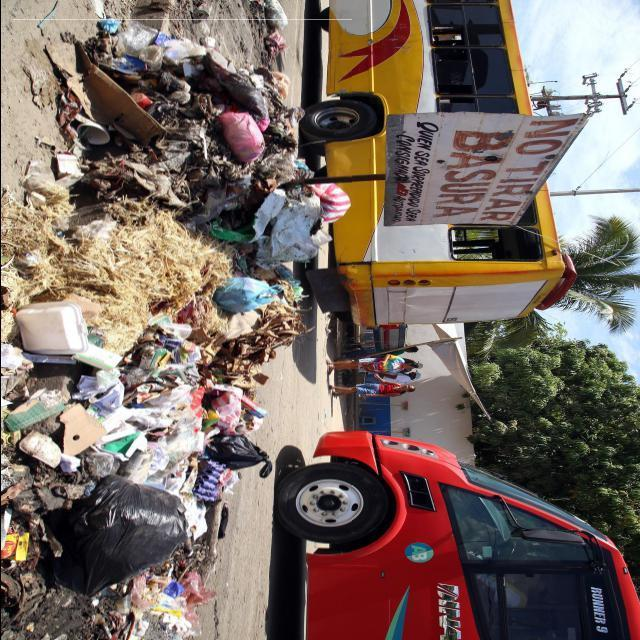Anorganik: (11, 19, 352, 639)
